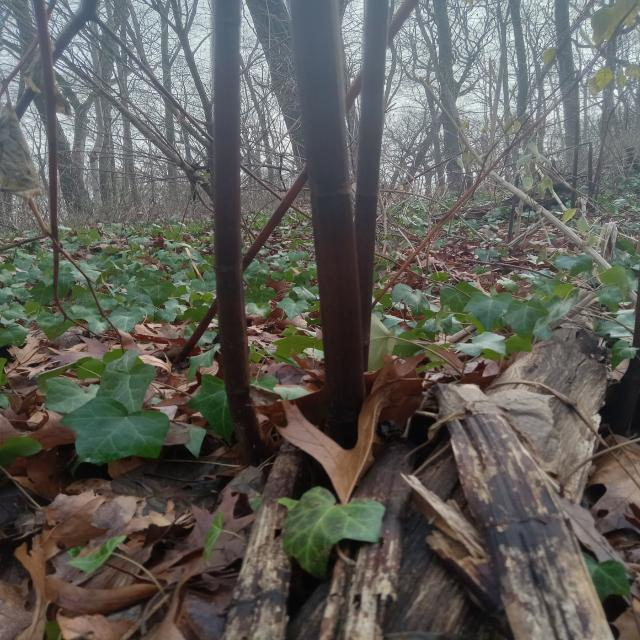knotweed-stems: (287, 0, 367, 449), (209, 0, 265, 466)
